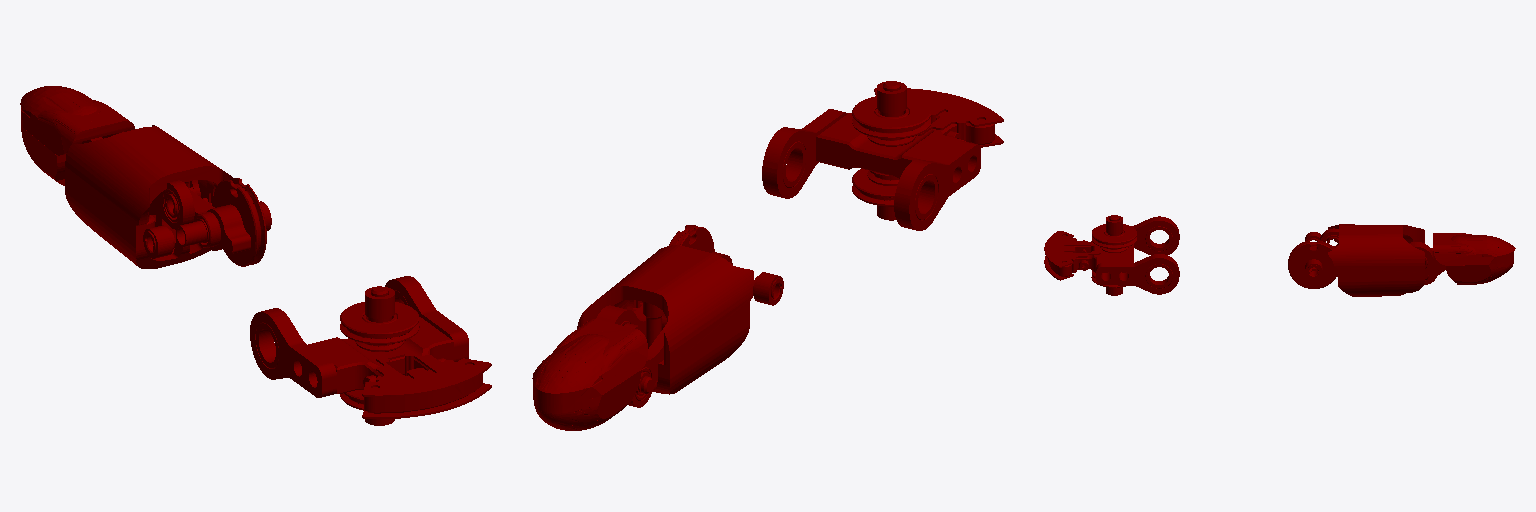
robot.urdf — finger:
<?xml version="1.0"?>
<robot name="finger">

  <!-- Generated by blender_export.py from /home/michael-jenz/rds_ws/src/robotic-finger/blender_files/rds_finger3.blend -->

  <material name="blue">
    <color rgba="0 0 1 1"/>
  </material>
  <material name="green">
    <color rgba="0 1 0 1"/>
  </material>
  <material name="red">
    <color rgba="1 0 0 1"/>
  </material>
  <material name="purple">
    <color rgba="1 0 1 1"/>
  </material>
  <material name="grey">
    <color rgba="0.5 0.5 0.5 1"/>
  </material>
  <material name="yellow">
    <color rgba="1 1 0 1"/>
  </material>

  <!-- Finger base -->
  <link name="base_link">
    <visual>
      <geometry>
        <mesh filename="package://finger_description/meshes/urdf/visual/base_link.obj"/>
      </geometry>
      <material name="setpoint">
        <color rgba="0.5 0.0 0.0 0.5"/>
      </material>
    </visual>
    <collision>
      <geometry>
        <mesh filename="package://finger_description/meshes/urdf/collision/col_base_link.obj"/>
      </geometry>
    </collision>
    <inertial>
      <mass value="0.05"/>
      <origin xyz="0 0 0" rpy="0 0 0"/>
      <inertia ixx="1e-05" ixy="0" ixz="0" iyy="1e-05" iyz="0" izz="1e-05"/>
    </inertial>
  </link>

  <!-- Mcp Splay -->
  <joint name="mcp_splay" type="revolute">
    <parent link="base_link"/>
    <child link="mcp_link"/>
    <origin xyz="0.0 0.0 0.0" rpy="0 0 0"/>
    <axis xyz="0.0 0.0 1.0"/>
    <limit lower="-0.174533" upper="0.174533" effort="5.0" velocity="3.14"/>
    <dynamics damping="0.1" friction="0.0"/>
  </joint>

  <!-- Space between MCP splay and flexion -->
  <link name="mcp_link">
    <visual>
      <geometry>
        <mesh filename="package://finger_description/meshes/urdf/visual/mcp_link.obj"/>
      </geometry>
      <material name="setpoint">
        <color rgba="0.5 0.0 0.0 0.5"/>
      </material>
    </visual>
    <collision>
      <geometry>
        <mesh filename="package://finger_description/meshes/urdf/collision/col_mcp_link.obj"/>
      </geometry>
    </collision>
    <inertial>
      <mass value="0.01"/>
      <origin xyz="0 0 0" rpy="0 0 0"/>
      <inertia ixx="1e-05" ixy="0" ixz="0" iyy="1e-05" iyz="0" izz="1e-05"/>
    </inertial>
  </link>

  <!-- Mcp Flexion -->
  <joint name="mcp_flexion" type="revolute">
    <parent link="mcp_link"/>
    <child link="proximal_phalanx"/>
    <origin xyz="0.0 0.0178 -0.0" rpy="0 0 0"/>
    <axis xyz="-1.0 0.0 0.0"/>
    <limit lower="0" upper="1.57" effort="5.0" velocity="3.14"/>
    <dynamics damping="0.1" friction="0.0"/>
  </joint>

  <!-- Proximal phalanx -->
  <link name="proximal_phalanx">
    <visual>
      <geometry>
        <mesh filename="package://finger_description/meshes/urdf/visual/proximal_phalanx.obj"/>
      </geometry>
      <material name="setpoint">
        <color rgba="0.5 0.0 0.0 0.5"/>
      </material>
    </visual>
    <collision>
      <geometry>
        <mesh filename="package://finger_description/meshes/urdf/collision/col_proximal_phalanx.obj"/>
      </geometry>
    </collision>
    <inertial>
      <mass value="0.01"/>
      <origin xyz="0 0 0" rpy="0 0 0"/>
      <inertia ixx="1e-05" ixy="0" ixz="0" iyy="1e-05" iyz="0" izz="1e-05"/>
    </inertial>
  </link>

  <!-- Pip Flexion -->
  <joint name="pip_flexion" type="revolute">
    <parent link="proximal_phalanx"/>
    <child link="middle_phalanx"/>
    <origin xyz="0.0 0.0612 0.0" rpy="0 0 0"/>
    <axis xyz="-1.0 0.0 0.0"/>
    <limit lower="0.0" upper="1.57" effort="5.0" velocity="3.14"/>
    <dynamics damping="0.1" friction="0.0"/>
  </joint>

  <!-- Middle phalanx -->
  <link name="middle_phalanx">
    <visual>
      <geometry>
        <mesh filename="package://finger_description/meshes/urdf/visual/middle_phalanx.obj"/>
      </geometry>
      <material name="setpoint">
        <color rgba="0.5 0.0 0.0 0.5"/>
      </material>
    </visual>
    <collision>
      <geometry>
        <mesh filename="package://finger_description/meshes/urdf/collision/col_middle_phalanx.obj"/>
      </geometry>
    </collision>
    <inertial>
      <mass value="0.008"/>
      <origin xyz="0 0 0" rpy="0 0 0"/>
      <inertia ixx="5e-06" ixy="0" ixz="0" iyy="5e-06" iyz="0" izz="5e-06"/>
    </inertial>
  </link>

  <!-- Dip Flexion -->
  <joint name="dip_flexion" type="revolute">
    <parent link="middle_phalanx"/>
    <child link="distal_phalanx"/>
    <origin xyz="0.0036 0.0406 0.0" rpy="0 0 0"/>
    <axis xyz="-1.0 0.0 0.0"/>
    <limit lower="0.0" upper="1.57" effort="3.0" velocity="3.14"/>
    <dynamics damping="0.1" friction="0.0"/>
    <mimic joint="pip_flexion" multiplier="0.85" offset="0.0"/>
  </joint>

  <!-- Distal phalanx -->
  <link name="distal_phalanx">
    <visual>
      <geometry>
        <mesh filename="package://finger_description/meshes/urdf/visual/distal_phalanx.obj"/>
      </geometry>
      <material name="setpoint">
        <color rgba="0.5 0.0 0.0 0.5"/>
      </material>
    </visual>
    <collision>
      <geometry>
        <mesh filename="package://finger_description/meshes/urdf/collision/col_distal_phalanx.obj"/>
      </geometry>
    </collision>
    <inertial>
      <mass value="0.005"/>
      <origin xyz="0 0 0" rpy="0 0 0"/>
      <inertia ixx="2e-06" ixy="0" ixz="0" iyy="2e-06" iyz="0" izz="2e-06"/>
    </inertial>
  </link>

</robot>

--- What the picture shows (computed from the rendered views, not written in the file) ---
3 views of the same robot in one strip: view 1: azimuth 30°, elevation 25°; view 2: azimuth 150°, elevation 25°; view 3: azimuth 270°, elevation 25° (orthographic).
Model finger with 5 links and 4 joints (4 revolute), rooted at base_link, posed every joint at zero.
Visible links, largest first — view 1: mcp_link, middle_phalanx, distal_phalanx; view 2: mcp_link, middle_phalanx, distal_phalanx; view 3: middle_phalanx, mcp_link, distal_phalanx.
Boxes of the visible links, <box> form: mcp_link: <box>250,276,491,425</box>; middle_phalanx: <box>65,125,271,268</box>; distal_phalanx: <box>20,86,134,185</box>; mcp_link: <box>762,81,1003,230</box>; middle_phalanx: <box>577,225,783,407</box>; distal_phalanx: <box>532,319,652,430</box>; middle_phalanx: <box>1288,224,1436,296</box>; mcp_link: <box>1044,215,1179,295</box>; distal_phalanx: <box>1424,233,1515,284</box>.
Size in the robot's own frame: 0.039 by 0.1866 by 0.034 metres.
Meshes: 5 distinct files referenced, 3 mesh visuals loaded (3 OBJ); not drawn: 2 (reference not matched to a file when rendering).
